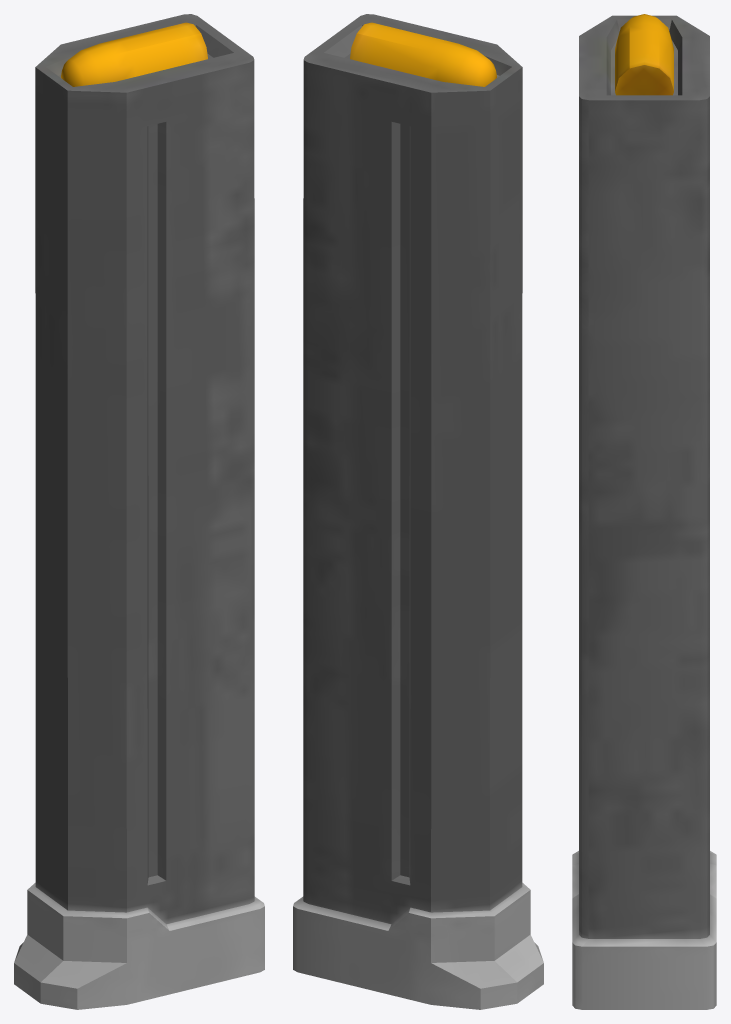
The model's file is SMG Ammo.glb.
3 renders of one model, left to right at view 1: azimuth 30°, elevation 25°; view 2: azimuth 150°, elevation 25°; view 3: azimuth 270°, elevation 25°, orthographic.
Parts seen in each view (by area): view 1: Gun_SMG_Ammo; view 2: Gun_SMG_Ammo; view 3: Gun_SMG_Ammo.
Part boxes in pixels (x1,y1,x2,y2): Gun_SMG_Ammo: (14, 14, 264, 1009); Gun_SMG_Ammo: (293, 14, 543, 1009); Gun_SMG_Ammo: (572, 14, 716, 1009).
Size of the model in its own units: 0.0642 by 0.2772 by 0.0391.
1 material, 1 textured.
